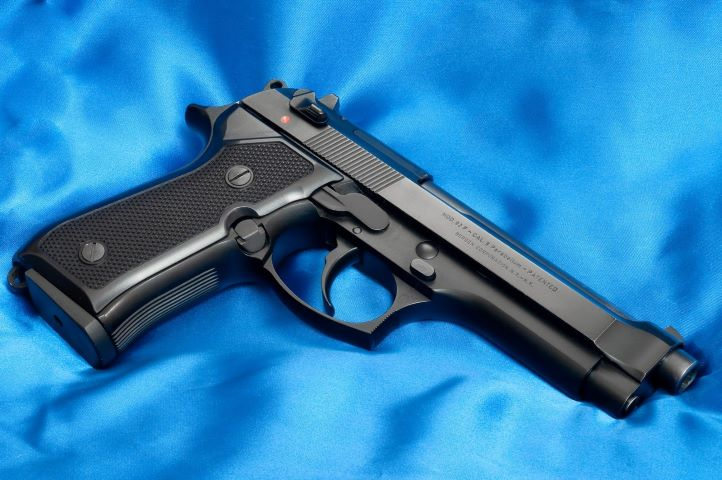pistol: (20, 78, 702, 450)
